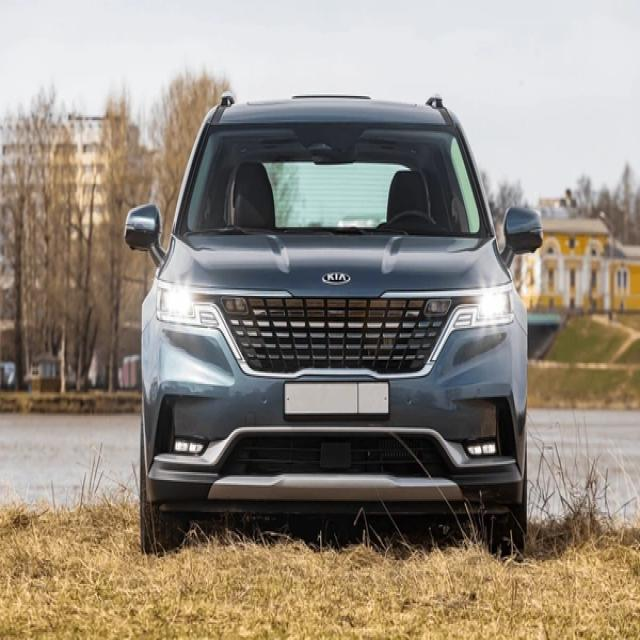kia: (322, 270, 351, 286)
